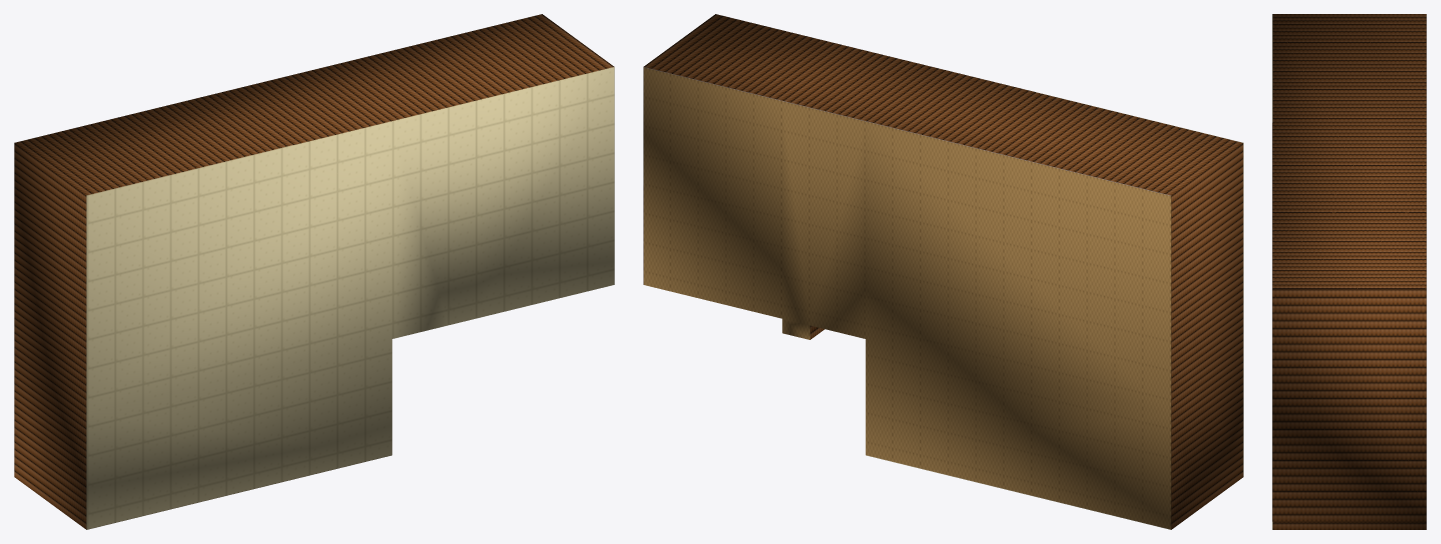
Rendered from apartment_inside_right.fbx.
The picture shows the model from 3 angles, left to right: view 1: azimuth 30°, elevation 25°; view 2: azimuth 150°, elevation 25°; view 3: azimuth 270°, elevation 25°; orthographic projection. The views are drawn at different scales.
Visible parts, largest first — view 1: apartment_rooms_003; view 2: apartment_rooms_003; view 3: apartment_rooms_003.
Boxes of the visible parts, x1=… form: apartment_rooms_003: x1=14, y1=14, x2=614, y2=529; apartment_rooms_003: x1=643, y1=14, x2=1243, y2=529; apartment_rooms_003: x1=1272, y1=14, x2=1426, y2=529.
Size of the model in its own units: 38 by 23 by 9.
1 material, 1 textured.
